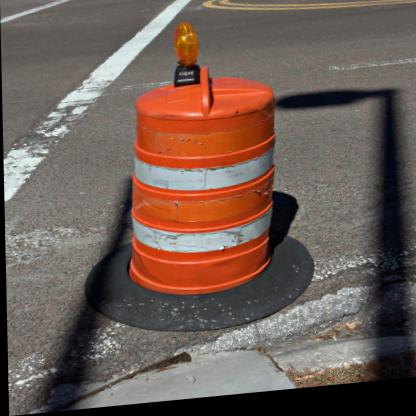obstacle: (121, 75, 282, 317)
